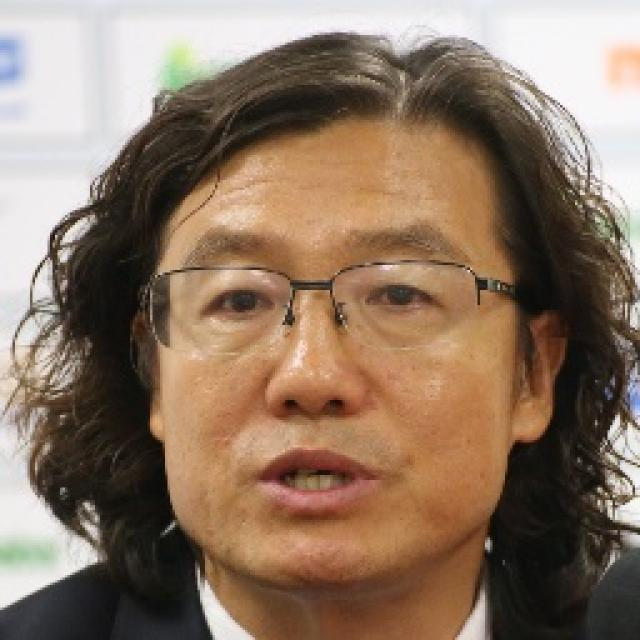earlobe: (510, 395, 548, 444), (146, 405, 166, 443)
eye: (203, 288, 275, 319), (366, 281, 436, 312)
nose: (266, 399, 366, 440)
wholeear: (511, 309, 572, 443), (130, 309, 166, 445)
